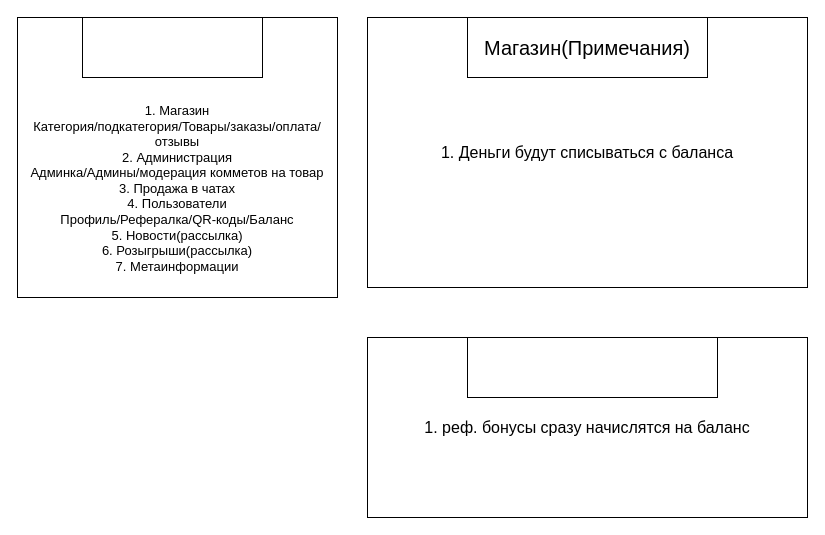
The diagram is 825 pixels wide and 535 high, and some of its shapes have lost their labels. Here are the shapes that lost their labels. From the top down, the centre of each, then its label:
At [172,47]: "Features".
At [592,367]: "Пользователи(примечания)".
